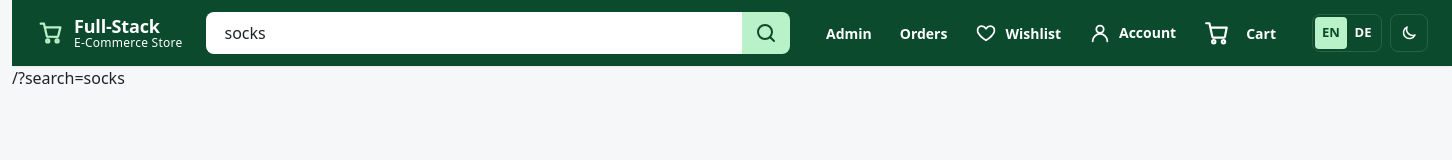
Test: Header component › clears the search text when clicking the logo
Check: the search field with test id "header-search-bar" holds "socks", box [206,12,742,54]
Click the link with test id "logo". click: [109, 33]
box: [36,16,182,50]
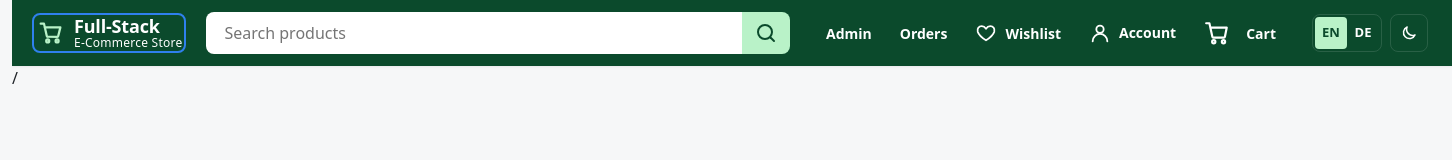
Check: the text with test id "current-url" reads "/", box [12,67,18,89]
Check: the search field with test id "header-search-bar" is empty, box [206,12,742,54]
